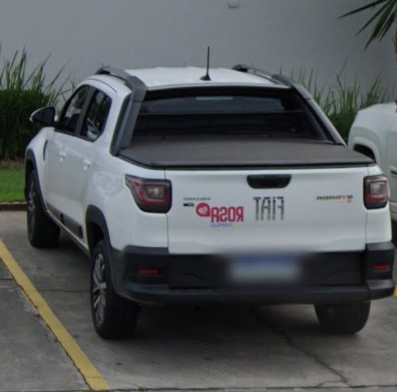car: (20, 62, 394, 341)
